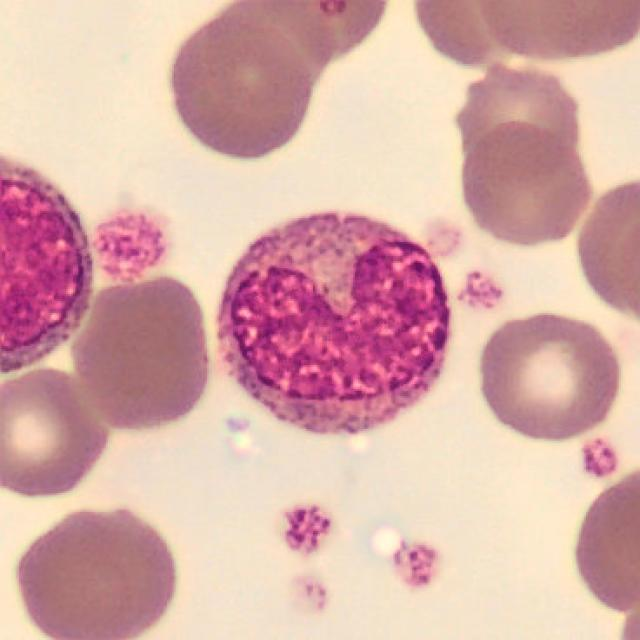Bastonete: (216, 213, 452, 436)
